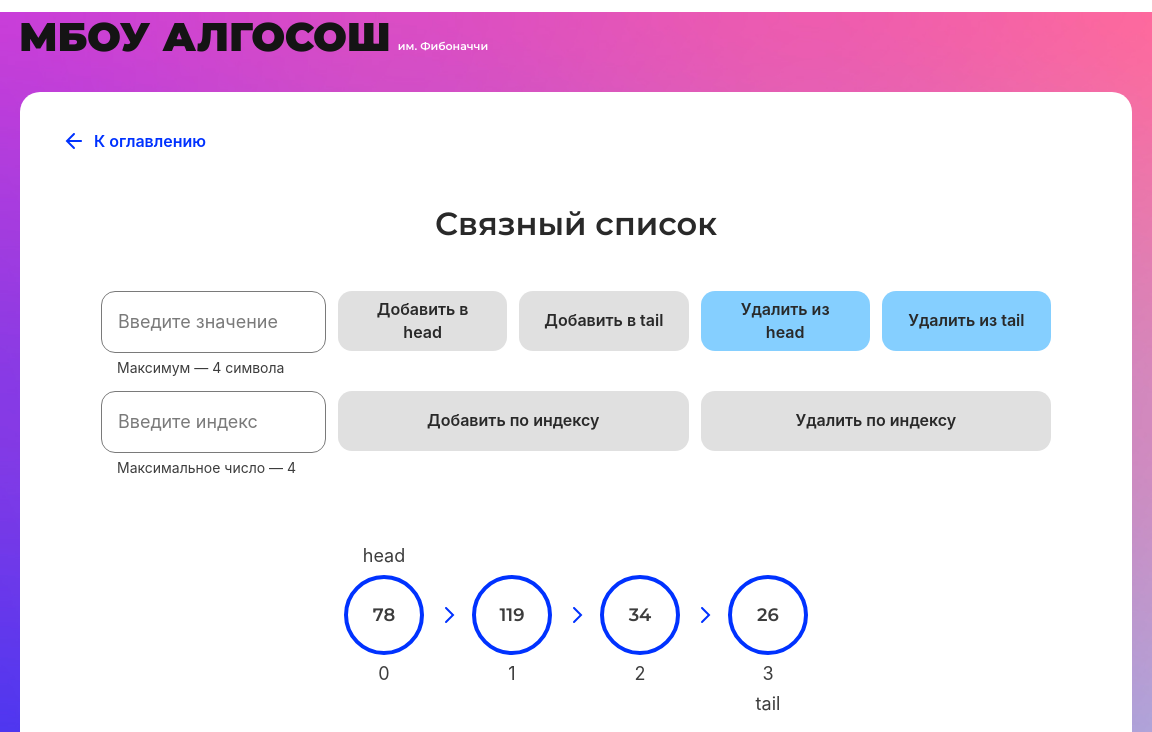
Test: list page works correctly › should delete head element correctly
Click the button with test id "list-delete-head" at (786, 321), box [701,291,870,351]
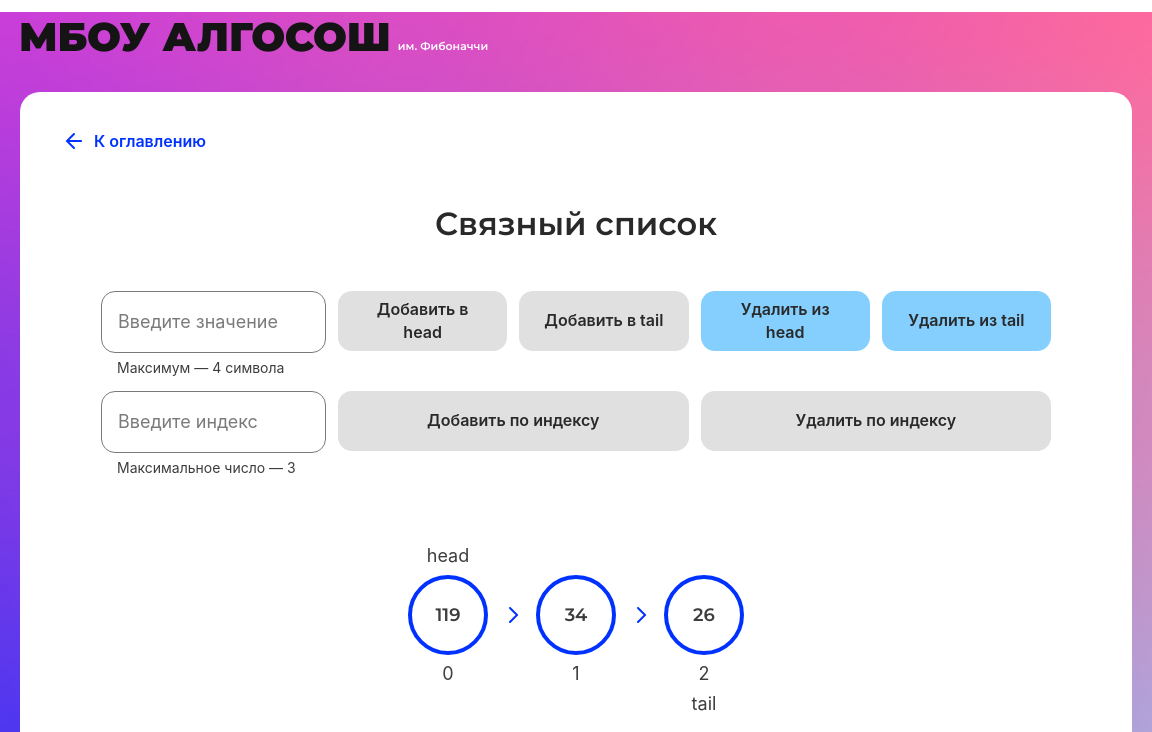
Check: the number of elements with test id "list-circle" is 3, box [408,575,488,655]
